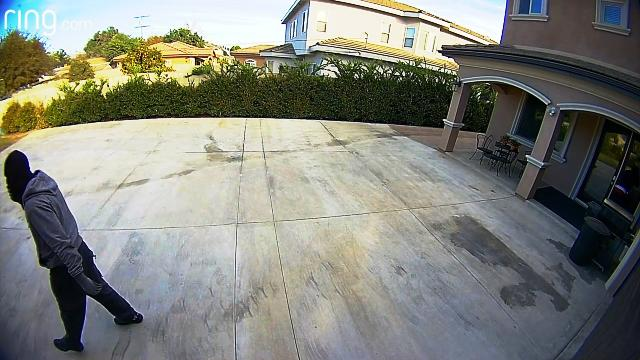berjalan: (1, 144, 147, 350)
